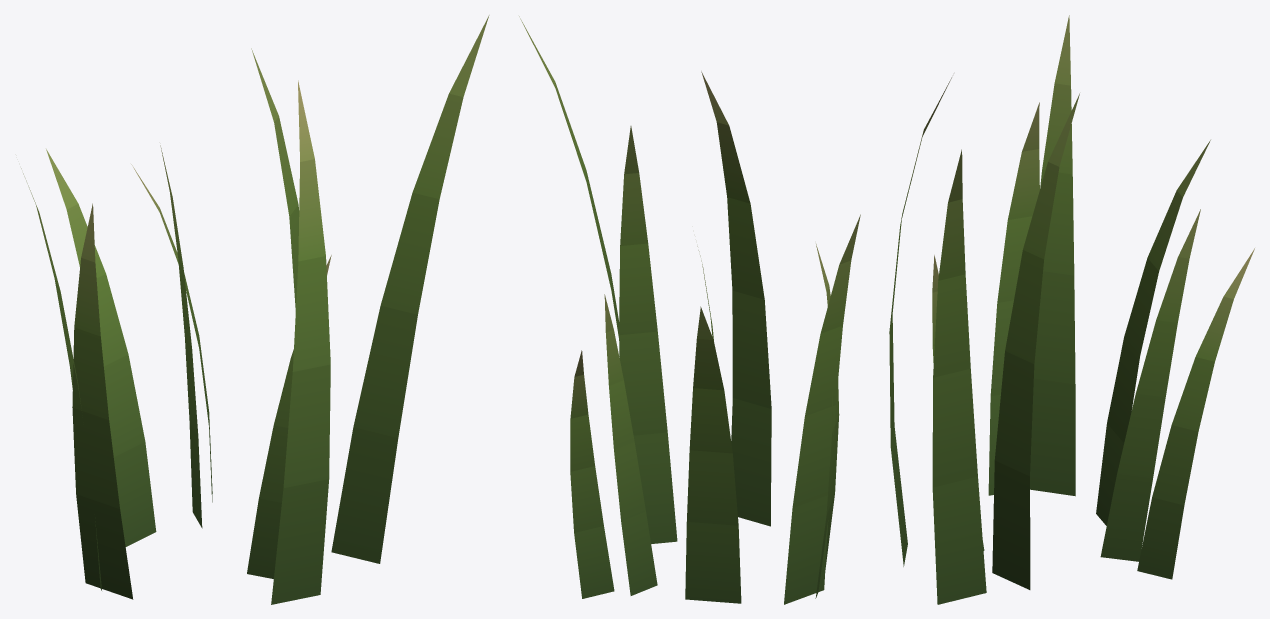
The model's file is grass_clump_b.glb.
3 renders of one model, left to right at view 1: azimuth 30°, elevation 25°; view 2: azimuth 150°, elevation 25°; view 3: azimuth 270°, elevation 25°, orthographic. The views are drawn at different scales.
Visible parts, largest first — view 1: grass_clump_b; view 2: grass_clump_b; view 3: grass_clump_b.
Boxes of the visible parts, x1,y1,x2,y2 form: grass_clump_b: (21,15,489,604); grass_clump_b: (519,16,860,604); grass_clump_b: (889,15,1254,604).
Size of the model in its own units: 0.432 by 0.5 by 0.3211.
